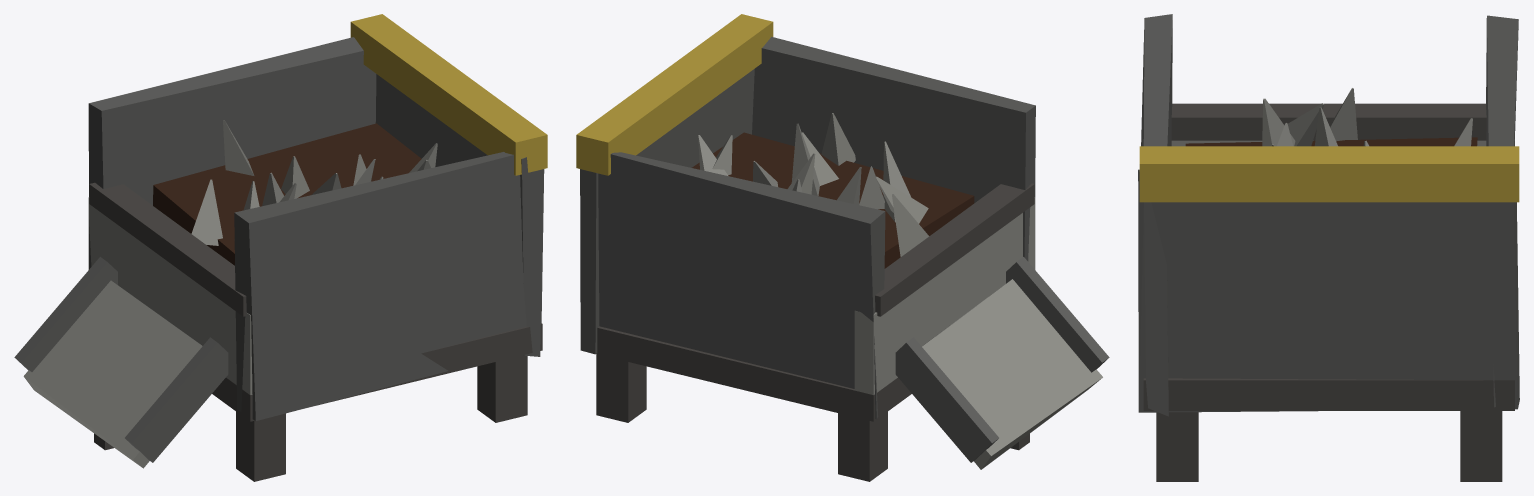
Rendered from util_caltrops.glb.
3 views of the same model, side by side, from view 1: azimuth 30°, elevation 25°; view 2: azimuth 150°, elevation 25°; view 3: azimuth 270°, elevation 25° (orthographic). The views are drawn at different scales.
Parts seen in each view (by area): view 1: util_caltrops; view 2: util_caltrops; view 3: util_caltrops.
Boxes of the visible parts, left/top/right/bottom form: util_caltrops: left=14, top=14, right=547, bottom=481; util_caltrops: left=576, top=14, right=1109, bottom=481; util_caltrops: left=1138, top=14, right=1519, bottom=481.
Size of the model in its own units: 0.6166 by 0.425 by 0.4524.
